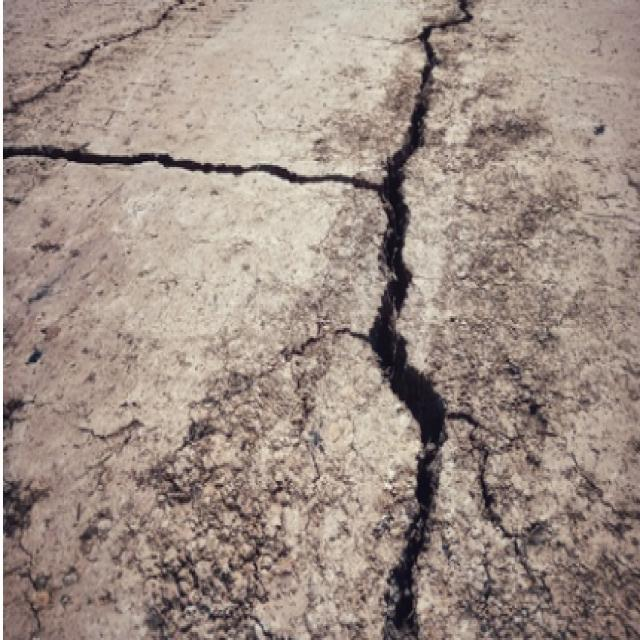branched cracks: (3, 0, 485, 639), (3, 0, 183, 120)
